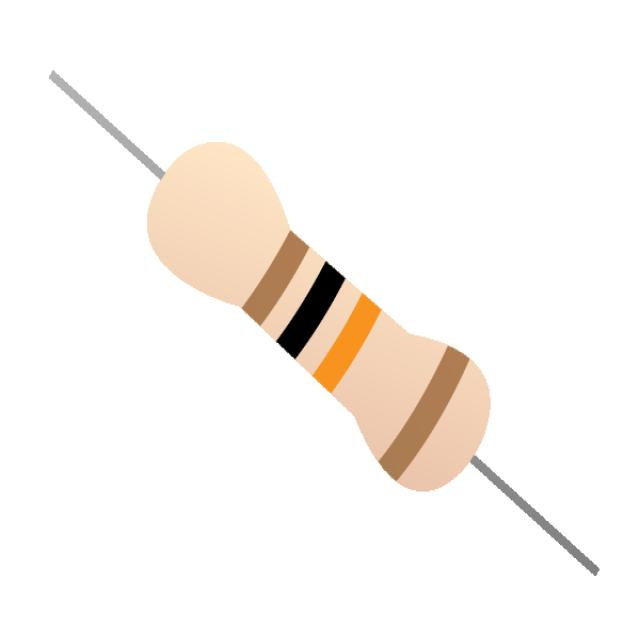Resistor: (152, 144, 480, 486)
